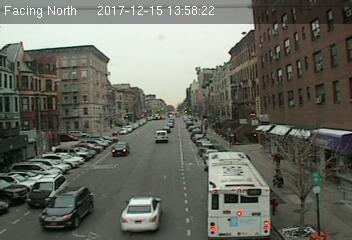bus: (205, 151, 274, 236)
car: (36, 187, 93, 229), (118, 195, 165, 231), (26, 173, 67, 207), (110, 143, 130, 154)
pedestrian: (270, 167, 286, 186)
